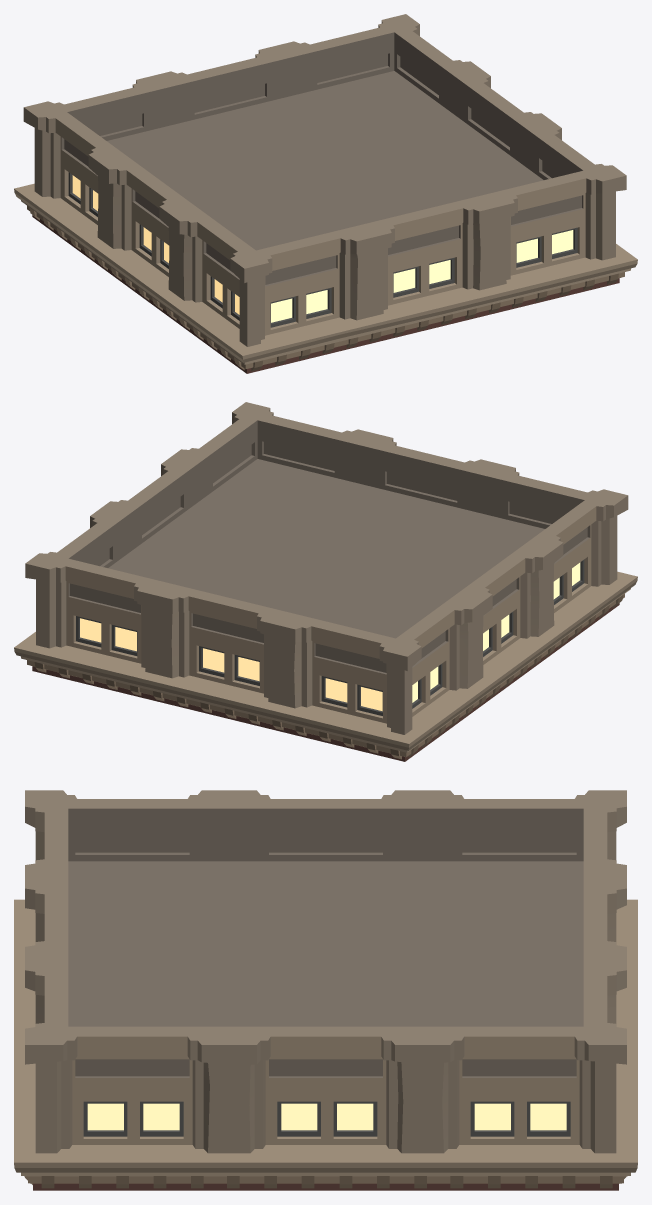
The model's file is SM_Bld_OfficeOld_Large_Roof_01.fbx.
The picture shows the model from 3 angles, top to bottom: view 1: azimuth 30°, elevation 25°; view 2: azimuth 150°, elevation 25°; view 3: azimuth 270°, elevation 25°; orthographic projection. The views are drawn at different scales.
Parts seen in each view (by area): view 1: SM_Bld_OfficeOld_Large_Roof_01; view 2: SM_Bld_OfficeOld_Large_Roof_01; view 3: SM_Bld_OfficeOld_Large_Roof_01.
Part boxes in pixels (bbox=[...]): SM_Bld_OfficeOld_Large_Roof_01: bbox=[14, 14, 637, 373]; SM_Bld_OfficeOld_Large_Roof_01: bbox=[14, 402, 637, 761]; SM_Bld_OfficeOld_Large_Roof_01: bbox=[14, 790, 637, 1190].
Bounding box in the file's own units: 1609 × 423 × 1612.
